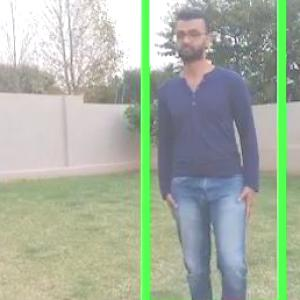follow: (154, 2, 265, 299)
